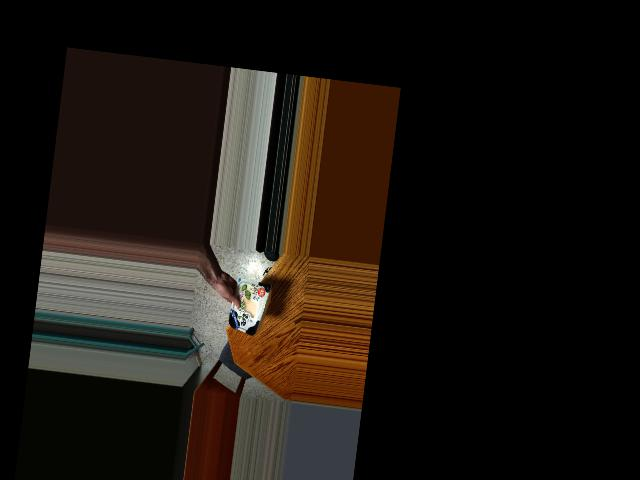cheese: (222, 286, 270, 330)
